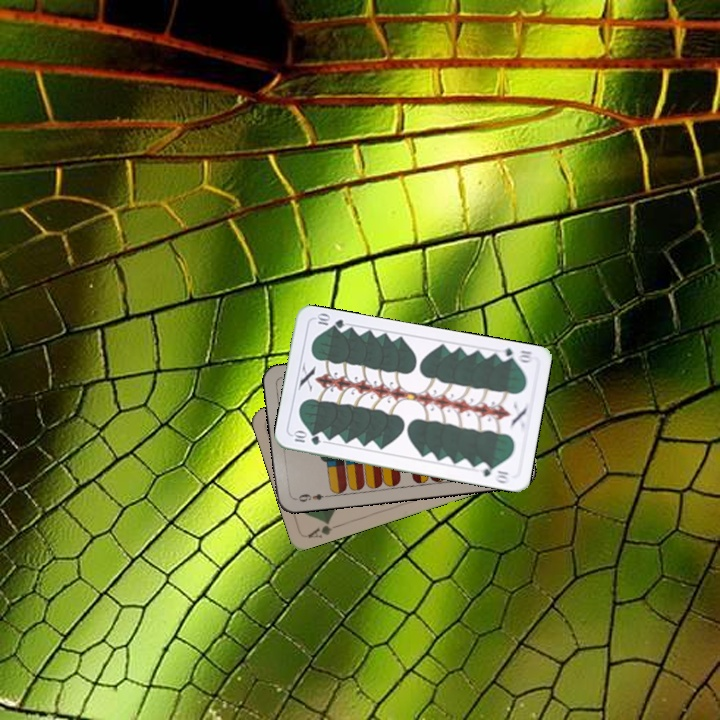E9: (291, 490, 332, 504)
G10: (494, 344, 536, 365), (289, 428, 323, 448)
GA: (304, 516, 343, 541)
